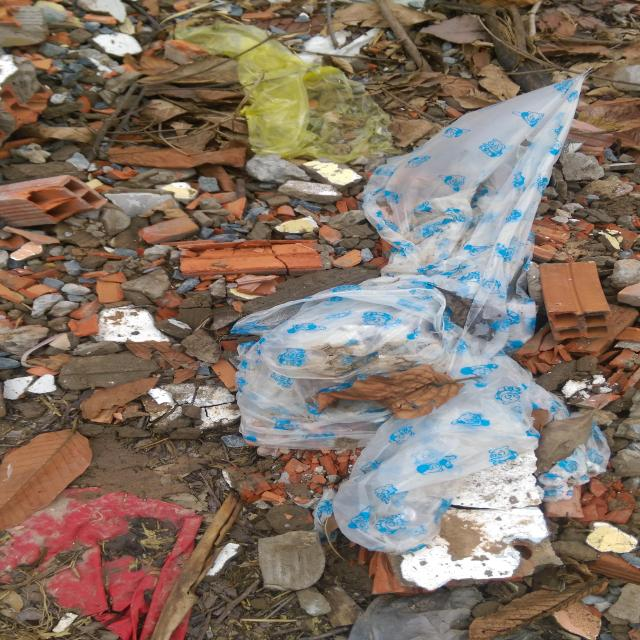litter: (228, 75, 616, 555), (174, 25, 391, 170), (96, 309, 169, 341)
